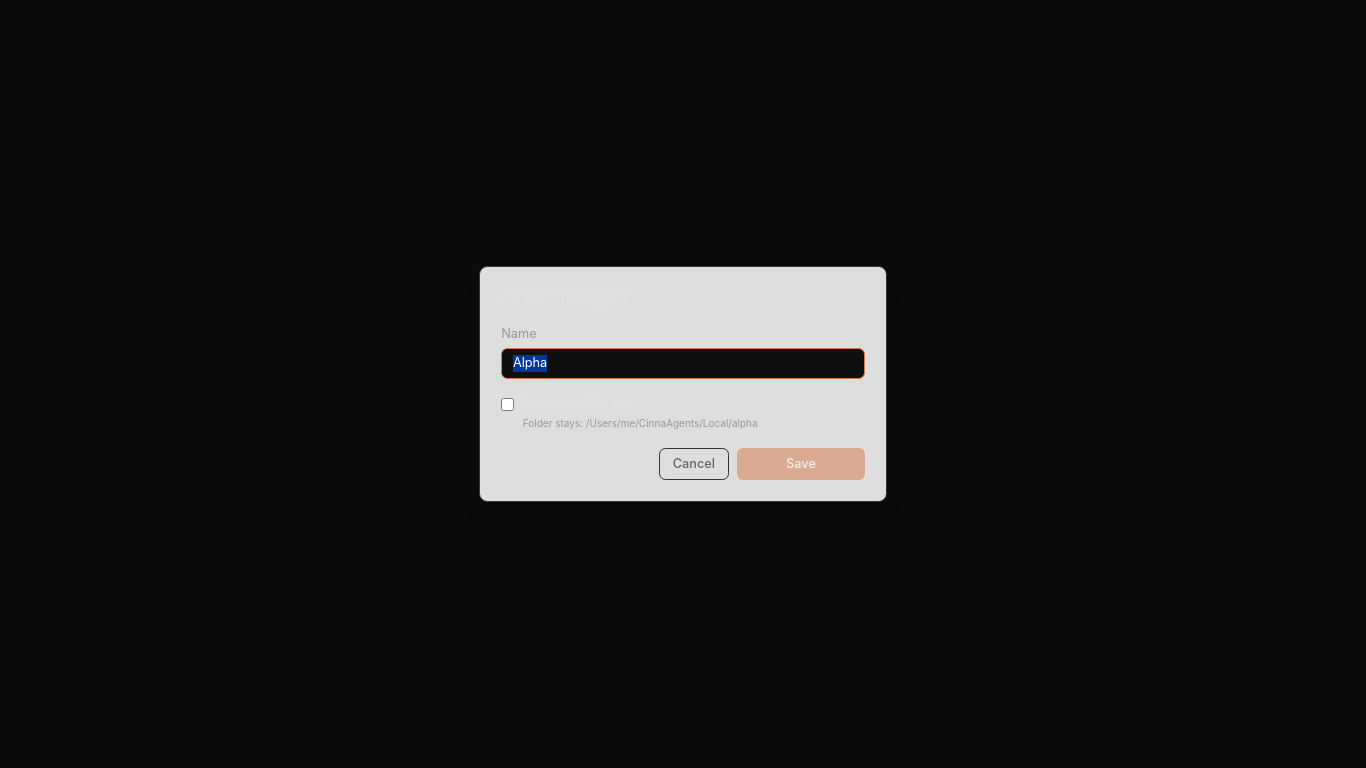
RenameAgentDialog › opens prefilled, focused, with the folder box unticked and the warning hidden until ticked
The width and height of the screenshot is (1366, 768).
expect the dialog "Rename agent" is shown: met, box [479,266,887,502]
expect the field holds "Alpha": met, box [501,348,865,379]
Click the checkbox labelled "Rename folder too" at (508, 405), box [501,398,514,411]
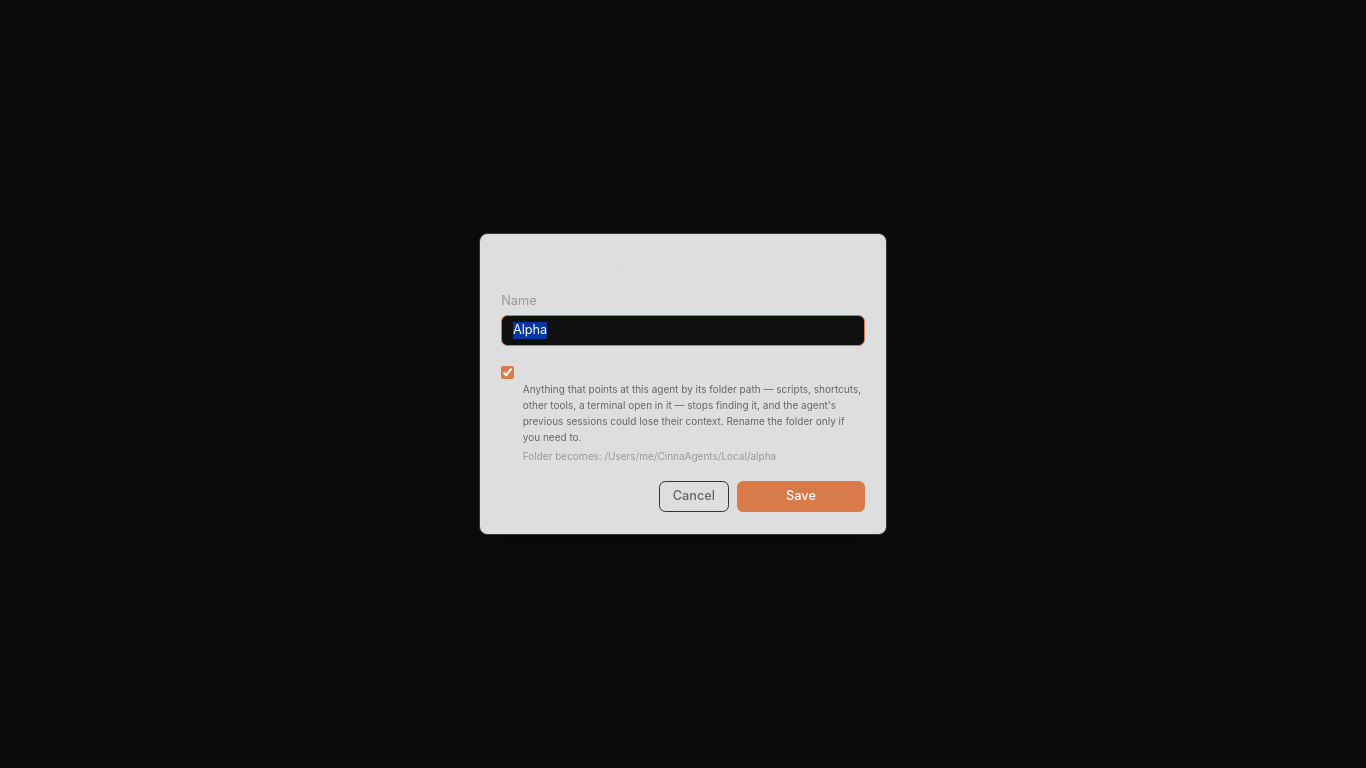
expect the text "Anything that points at this agent by its folder path — scripts, shortcuts, other tools, a terminal open in it — stops f" is shown: met, box [523,383,861,444]
Click the checkbox labelled "Rename folder too" at (508, 372), box [501,366,514,379]
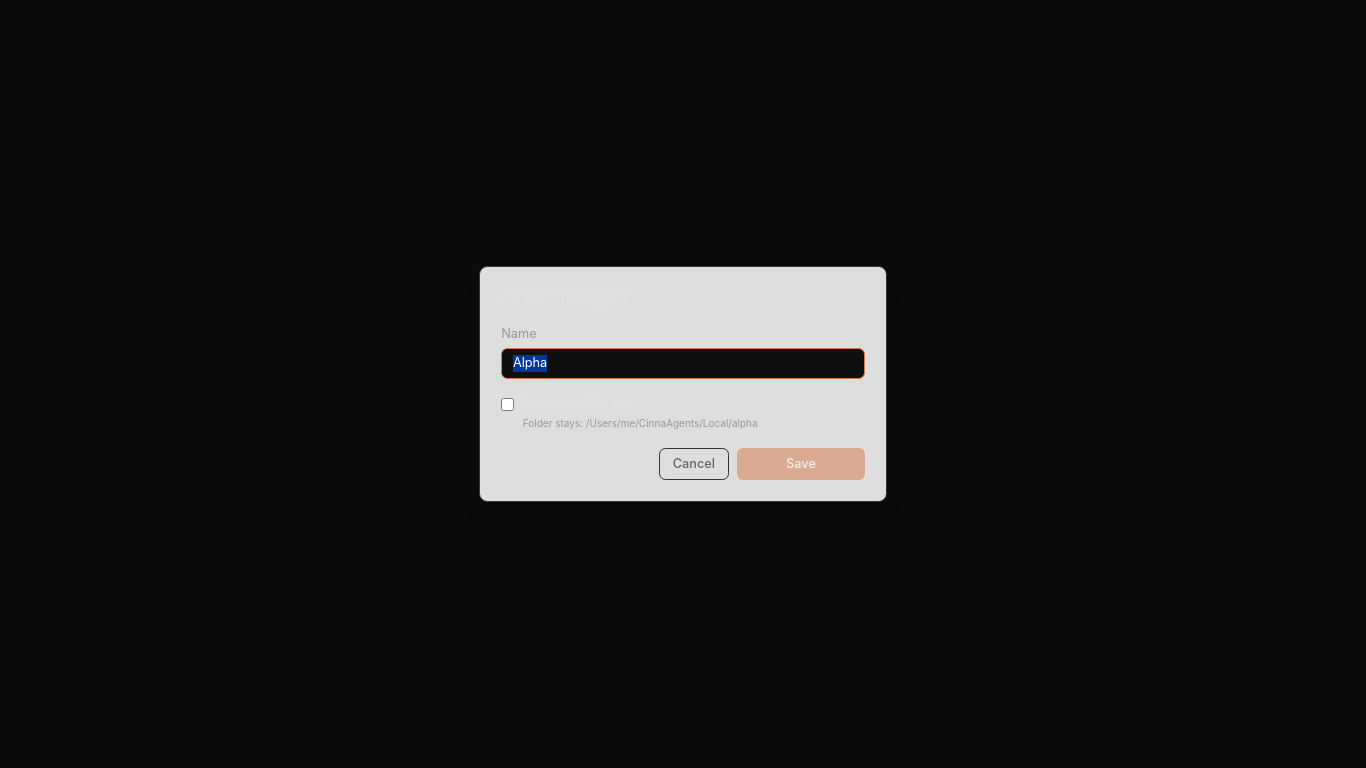
expect the button "Save" is disabled: met, box [737,448,865,480]
